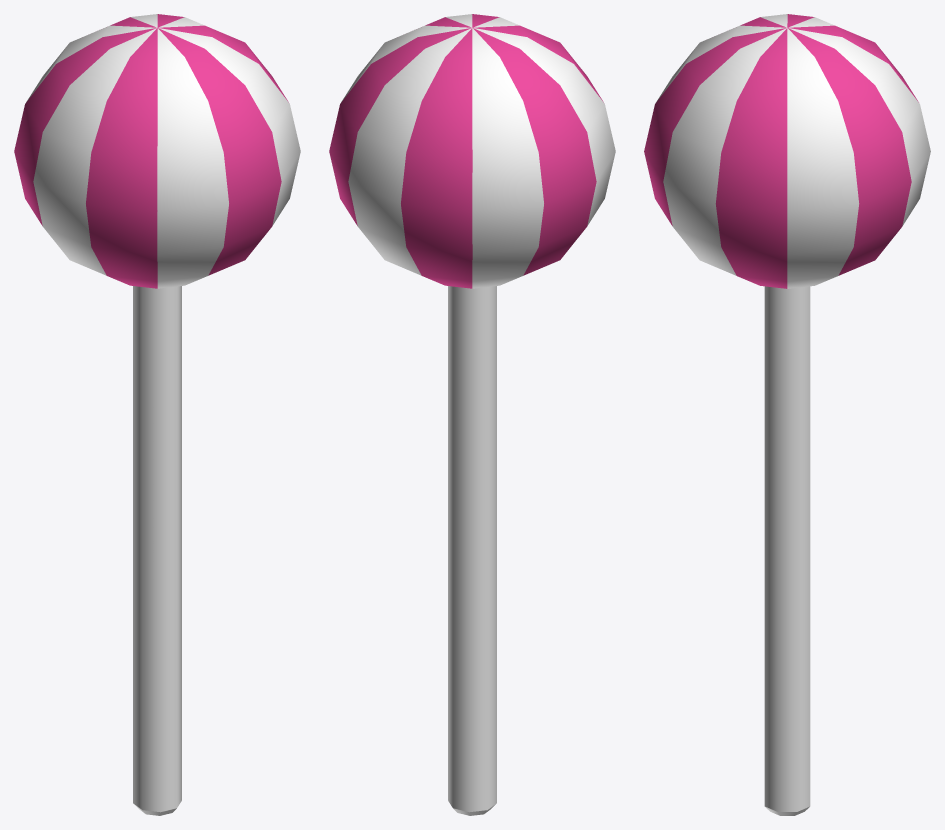
File: Candy_21.fbx
3 views of the same model, side by side, from view 1: azimuth 30°, elevation 25°; view 2: azimuth 150°, elevation 25°; view 3: azimuth 270°, elevation 25° (orthographic).
Visible parts, largest first — view 1: Candy_21; view 2: Candy_21; view 3: Candy_21.
Boxes of the visible parts, x1,y1,x2,y2 form: Candy_21: (14,14,300,815); Candy_21: (329,14,615,815); Candy_21: (644,14,930,815).
Bounding box in the file's own units: 0.8726 × 2.62 × 0.8726.
